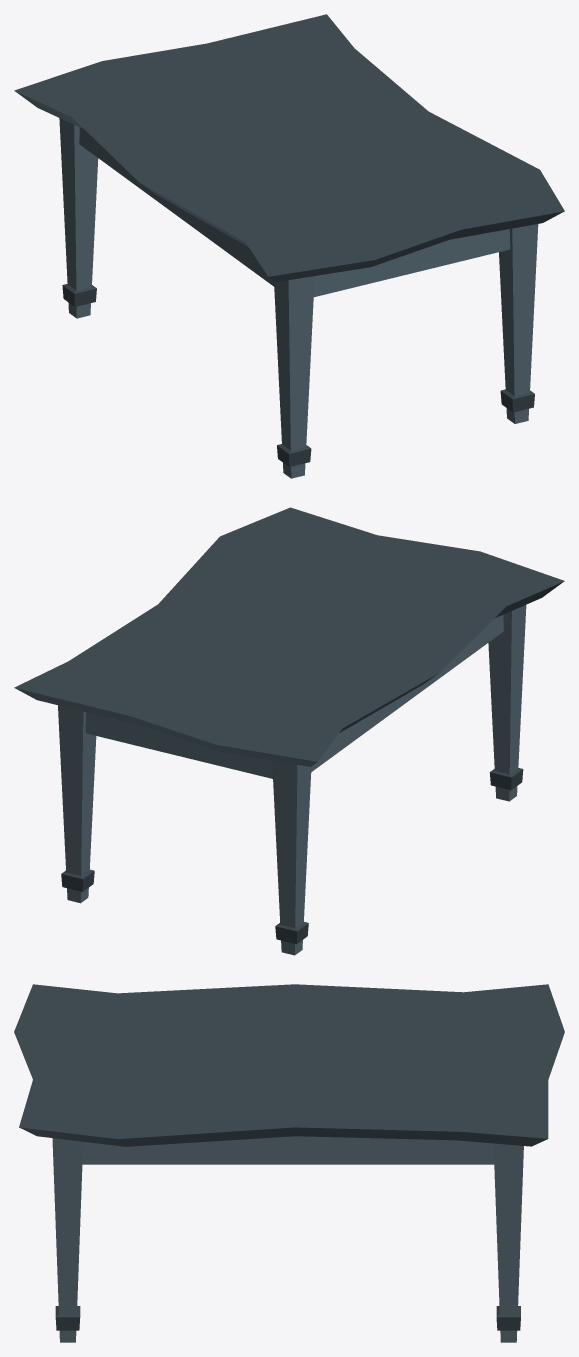
Rendered from Mesa1L.fbx.
3 renders of one model, top to bottom at view 1: azimuth 30°, elevation 25°; view 2: azimuth 150°, elevation 25°; view 3: azimuth 270°, elevation 25°, orthographic. The views are drawn at different scales.
Parts seen in each view (by area): view 1: Mesa1L; view 2: Mesa1L; view 3: Mesa1L.
Part boxes in pixels (x1,y1,x2,y2): Mesa1L: (14, 14, 564, 478); Mesa1L: (14, 507, 564, 955); Mesa1L: (14, 984, 564, 1342).
Size of the model in its own units: 156 by 105 by 235.
